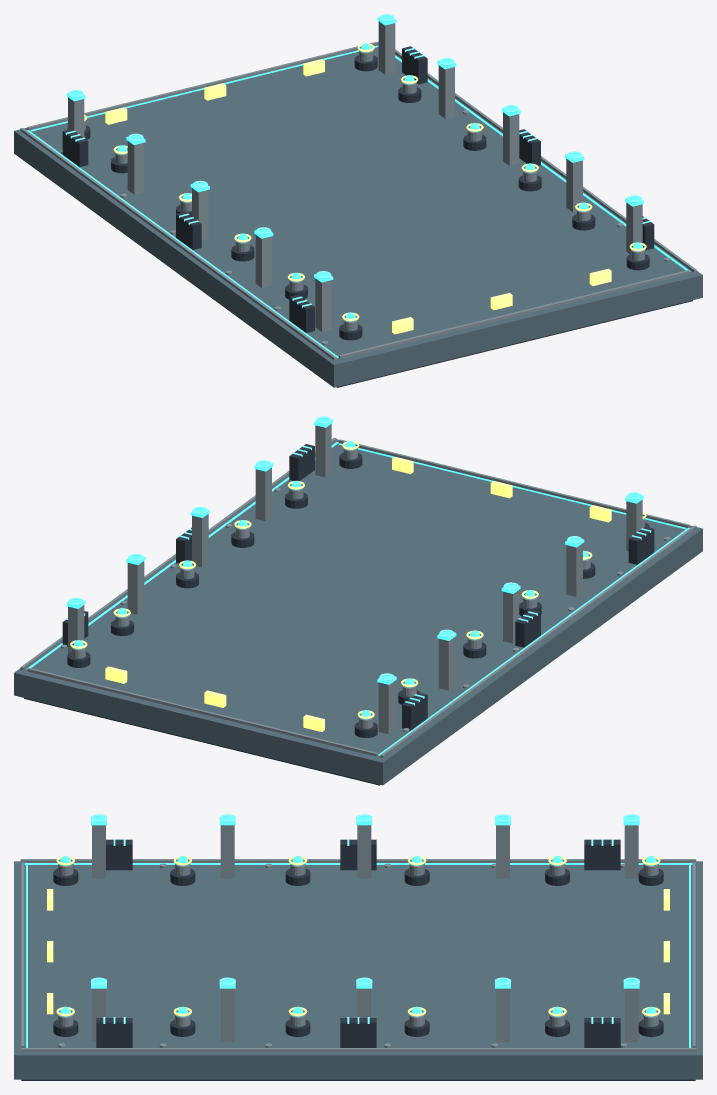
The model's file is neon_depot_extended.glb.
3 renders of one model, top to bottom at view 1: azimuth 30°, elevation 25°; view 2: azimuth 150°, elevation 25°; view 3: azimuth 270°, elevation 25°, orthographic. The views are drawn at different scales.
Visible parts, largest first — view 1: High-resolution arena body, Outer safety rail, Bumper and brake rail, Bumper and brake rail.001, Outer safety rail.001, Tall titanium induction gantry.009, Tall titanium induction gantry.003, Tall titanium induction gantry.001, Tall titanium induction gantry.007, Tall titanium induction gantry.008, Tall titanium induction gantry, Tall titanium induction gantry.006 (+10 smaller); view 2: High-resolution arena body, Outer safety rail, Bumper and brake rail.001, Bumper and brake rail, Outer safety rail.001, Tall titanium induction gantry.004, Tall titanium induction gantry.008, Tall titanium induction gantry.001, Tall titanium induction gantry.003, Tall titanium induction gantry.005, Tall titanium induction gantry.006, Tall titanium induction gantry.007 (+11 smaller); view 3: High-resolution arena body, Outer safety rail.001, Outer safety rail, Massive inset lower reinforced chassis, Shuttered industrial power bank.004, Shuttered industrial power bank.001, Shuttered industrial power bank.003, Shuttered industrial power bank.005, Shuttered industrial power bank, Internal margin inset, Tall titanium induction gantry.001, Tall titanium induction gantry.002 (+11 smaller).
Part boxes in pixels (box(x1,y1,x2,y2)): High-resolution arena body: box(14, 42, 702, 387); Outer safety rail: box(20, 128, 336, 360); Bumper and brake rail: box(339, 270, 689, 358); Bumper and brake rail.001: box(27, 42, 377, 130); Outer safety rail.001: box(395, 49, 696, 272); Tall titanium induction gantry.009: box(378, 21, 395, 74); Tall titanium induction gantry.003: box(127, 141, 144, 194); Tall titanium induction gantry.001: box(255, 235, 271, 288); Tall titanium induction gantry.007: box(503, 112, 519, 165); Tall titanium induction gantry.008: box(438, 65, 454, 118); Tall titanium induction gantry: box(315, 278, 331, 331); Tall titanium induction gantry.006: box(566, 158, 582, 212); High-resolution arena body: box(14, 439, 702, 785); Outer safety rail: box(380, 525, 696, 757); Bumper and brake rail.001: box(27, 667, 377, 756); Bumper and brake rail: box(339, 439, 689, 527); Outer safety rail.001: box(20, 437, 336, 670); Tall titanium induction gantry.004: box(378, 681, 395, 734); Tall titanium induction gantry.008: box(127, 561, 144, 614); Tall titanium induction gantry.001: box(566, 543, 582, 596); Tall titanium induction gantry.003: box(438, 637, 454, 690); Tall titanium induction gantry.005: box(315, 424, 331, 477); Tall titanium induction gantry.006: box(255, 467, 271, 520); Tall titanium induction gantry.007: box(192, 514, 208, 567); High-resolution arena body: box(14, 861, 702, 1079); Outer safety rail.001: box(20, 1048, 696, 1051); Outer safety rail: box(20, 859, 696, 862); Massive inset lower reinforced chassis: box(21, 1079, 695, 1080); Shuttered industrial power bank.004: box(584, 839, 620, 870); Shuttered industrial power bank.001: box(96, 1018, 132, 1047); Shuttered industrial power bank.003: box(340, 1018, 376, 1047); Shuttered industrial power bank.005: box(584, 1018, 620, 1047); Shuttered industrial power bank: box(106, 839, 132, 870); Internal margin inset: box(24, 863, 692, 864); Tall titanium induction gantry.001: box(220, 825, 234, 878); Tall titanium induction gantry.002: box(357, 825, 371, 878).
Size of the model in its own units: 23.5 by 4.99 by 35.3.
